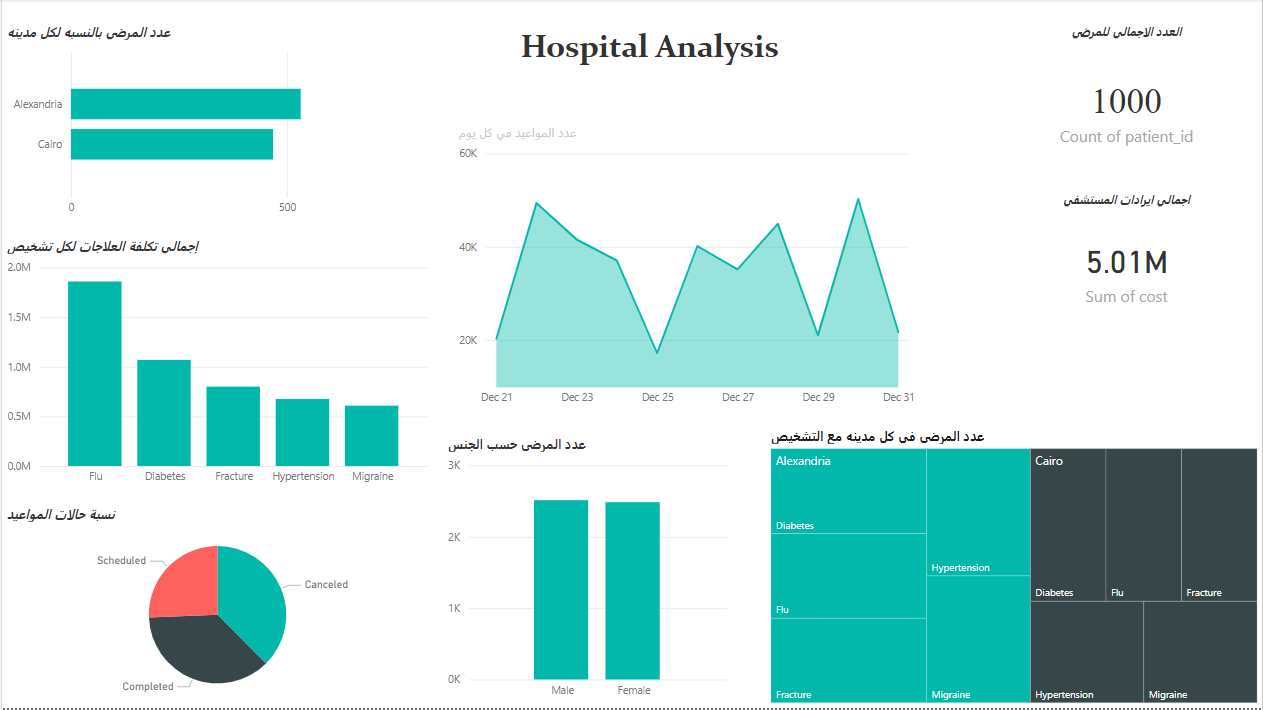

What the dashboard file says about the page in this screenshot:
{"tool":"powerbi","page":{"name":"Page 1","canvas":[1280,720],"ordinal":0},"visuals":[{"type":"barChart","title":"عدد المرضي بالنسبه لكل مدينه","fields":{"Category":["patients.city"],"Y":["CountNonNull(patients.patient_id)"]},"box":[0,24.3,347.2,205.2],"z":0},{"type":"columnChart","title":"إجمالي تكلفة العلاجات لكل تشخيص","fields":{"Category":["treatments.diagnosis"],"Y":["Sum(treatments.cost)"]},"box":[0,242.2,437.7,261.6],"z":1000},{"type":"pieChart","title":"نسبة حالات المواعيد","fields":{"Category":["appointments (2).status"],"Y":["Sum(appointments (2).appointment_id)"]},"box":[0,514,438,206],"z":2000},{"type":"card","title":"العدد الاجمالي للمرضي","fields":{"Values":["CountNonNull(patients.patient_id)"]},"box":[1004.7,24.4,275.3,160.5],"z":3000},{"type":"card","title":"اجمالي ايرادات المستشفي","fields":{"Values":["Sum(treatments.cost)"]},"box":[1004.7,195,275.3,144.3],"z":4000},{"type":"stackedAreaChart","title":"عدد المواعيد في كل يوم","fields":{"Category":["appointments (2).appointment_date"],"Y":["Sum(appointments (2).appointment_id)"]},"box":[459.2,127,473.4,295.6],"z":5000},{"type":"treemap","title":"عدد المرضي في كل مدينه مع التشخيص","fields":{"Group":["patients.city"],"Values":["CountNonNull(appointments (2).patient_id)"],"Details":["treatments.diagnosis"]},"box":[776.1,434.8,503.9,285.5],"z":6000},{"type":"lineStackedColumnComboChart","title":" عدد المرضي حسب الجنس","fields":{"Category":["patients.gender"],"Y":["CountNonNull(appointments (2).patient_id)"]},"box":[448,442.9,293.6,277.3],"z":7000},{"type":"textbox","box":[437.8,24.4,430.7,58.9],"z":7001}]}

Visuals, with their boxes in screenshot pixels (x1, y1, x2, y2), scaled from the page's 1280x720 canvas onto the 1263x710 screenshot:
"عدد المرضي بالنسبه لكل مدينه" barChart: [left=0, top=24, right=343, bottom=226]
"إجمالي تكلفة العلاجات لكل تشخيص" columnChart: [left=0, top=239, right=432, bottom=497]
"نسبة حالات المواعيد" pieChart: [left=0, top=507, right=432, bottom=709]
"العدد الاجمالي للمرضي" card: [left=991, top=24, right=1262, bottom=182]
"اجمالي ايرادات المستشفي" card: [left=991, top=192, right=1262, bottom=335]
"عدد المواعيد في كل يوم" stackedAreaChart: [left=453, top=125, right=920, bottom=417]
"عدد المرضي في كل مدينه مع التشخيص" treemap: [left=766, top=429, right=1262, bottom=709]
" عدد المرضي حسب الجنس" lineStackedColumnComboChart: [left=442, top=437, right=732, bottom=709]
textbox: [left=432, top=24, right=857, bottom=82]
